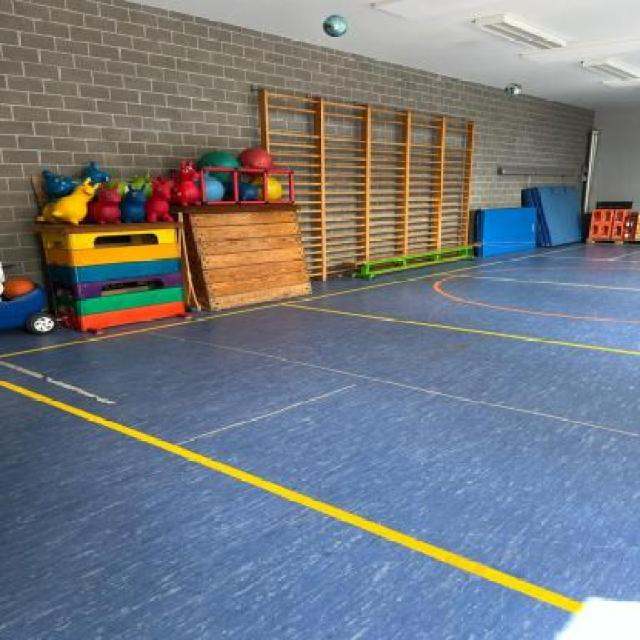floor: (0, 234, 639, 640)
